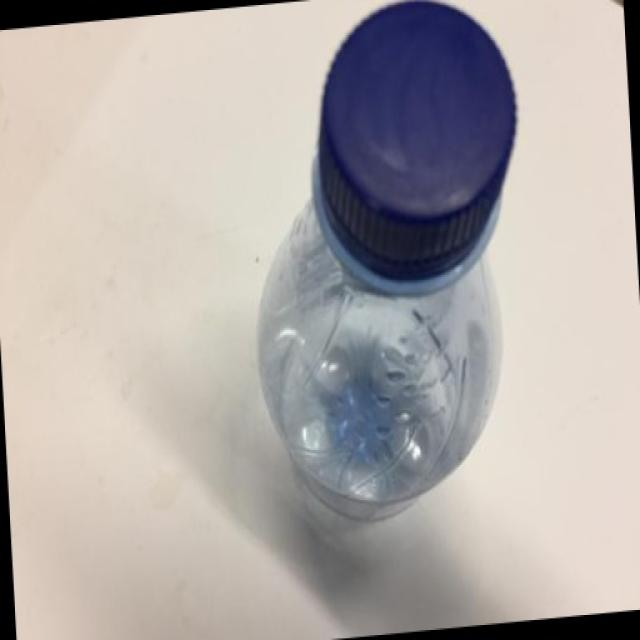plastico: (254, 0, 532, 591)
